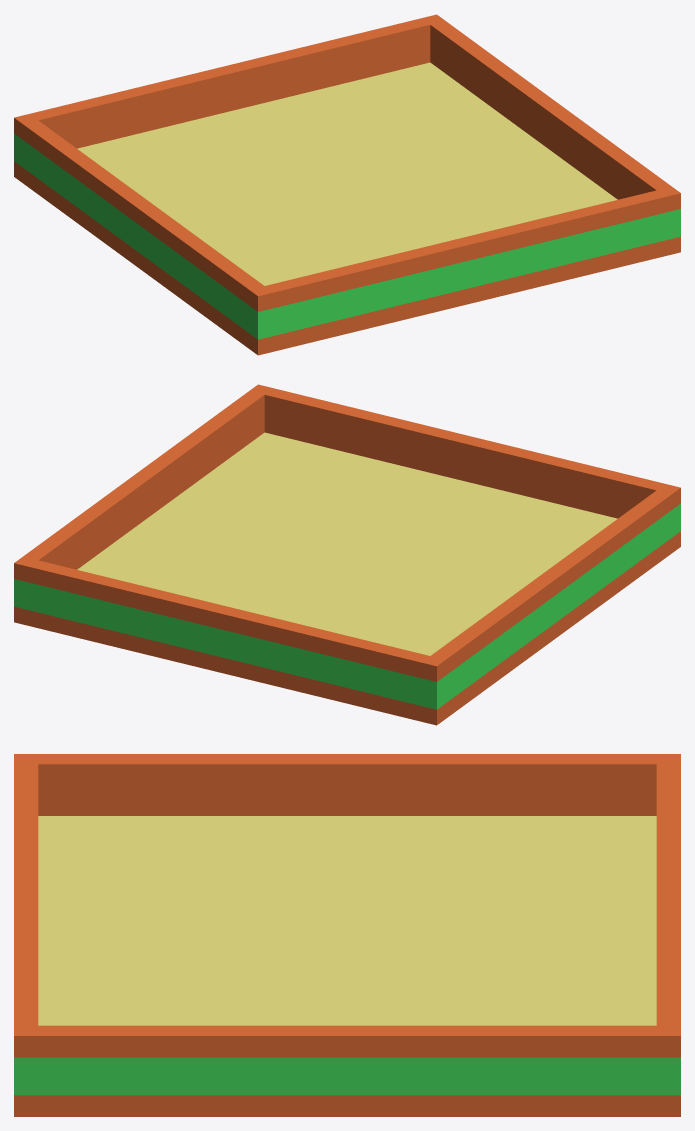
The model's file is sandbox.glb.
The picture shows the model from 3 angles, top to bottom: view 1: azimuth 30°, elevation 25°; view 2: azimuth 150°, elevation 25°; view 3: azimuth 270°, elevation 25°; orthographic projection. The views are drawn at different scales.
Parts seen in each view (by area): view 1: Plane.001; view 2: Plane.001; view 3: Plane.001.
Part boxes in pixels (box(x1,y1,x2,y2)): Plane.001: box(14, 14, 680, 355); Plane.001: box(14, 384, 680, 725); Plane.001: box(14, 754, 680, 1116).
Bounding box in the file's own units: 0.6 × 0.0803 × 0.6.
